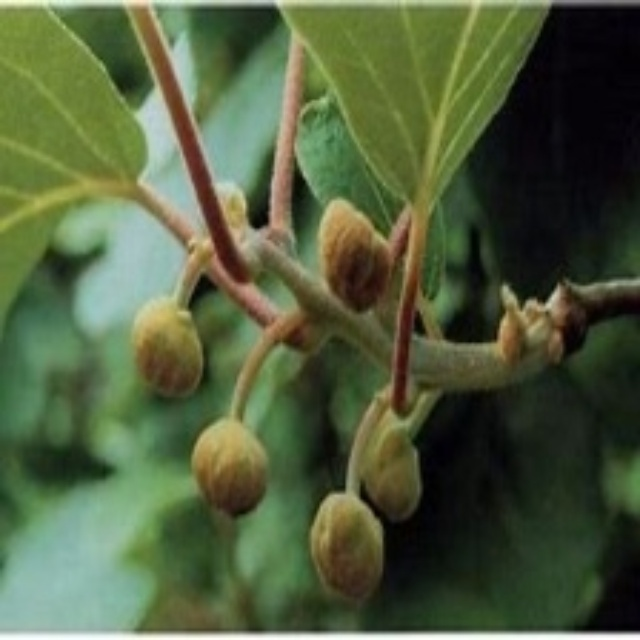kiwi: (307, 487, 393, 607), (311, 200, 391, 314), (122, 289, 206, 393), (194, 415, 269, 515)
